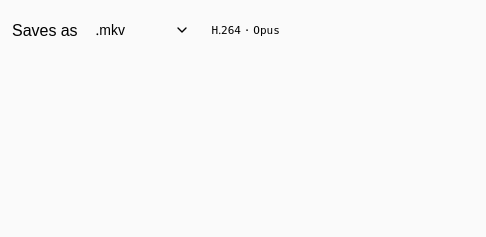
SavesAsControl › offers WebM only when the picked streams fit it, and says why not
Click the dropdown with test id "saves-as-trigger". click: coordinates (142, 30)
box: top-left (86, 12), bottom-right (198, 48)
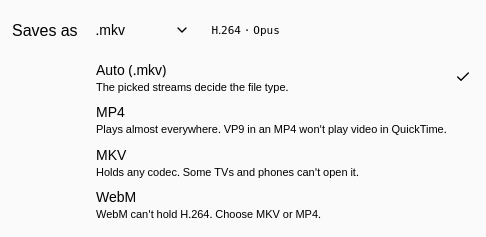
Result: the option with test id "saves-as-option-webm" shows "WebM can't hold H.264. Choose MKV or MP4." at top-left (96, 187), bottom-right (321, 221)
